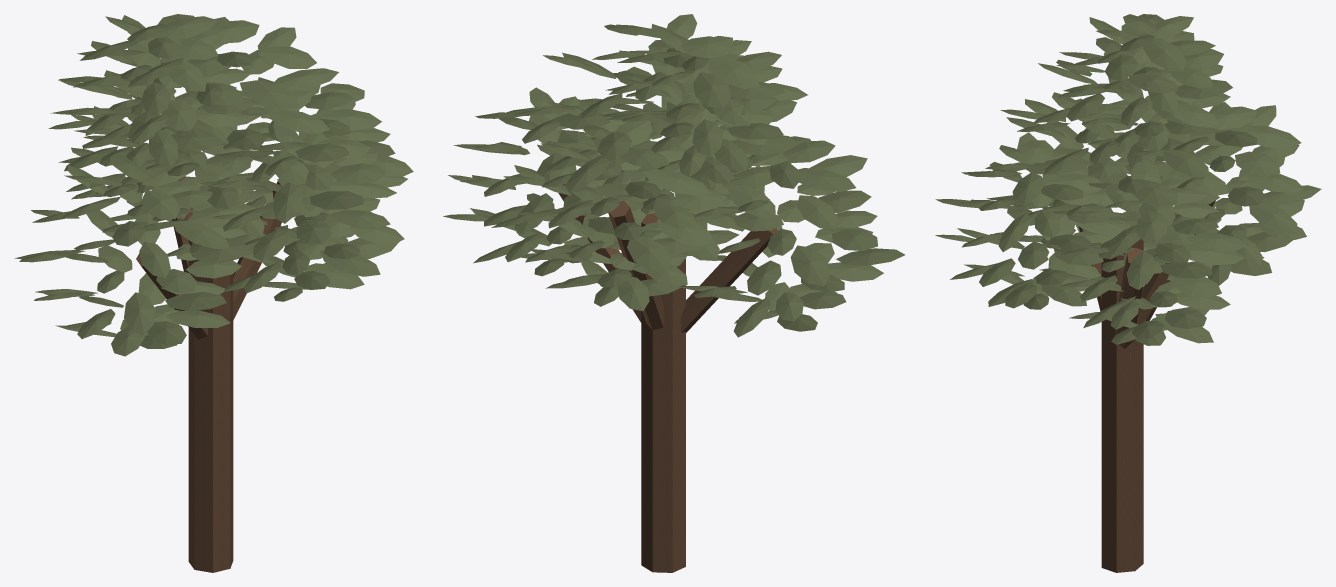
Rendered from tree_oak.glb.
3 renders of one model, left to right at view 1: azimuth 30°, elevation 25°; view 2: azimuth 150°, elevation 25°; view 3: azimuth 270°, elevation 25°, orthographic. The views are drawn at different scales.
Visible parts, largest first — view 1: DD_Crown.002, DD_Crown.004, DD_Crown, DD_Crown.005, DD_Trunk, DD_Crown.001, DD_Crown.003, DD_Branch; view 2: DD_Crown.003, DD_Crown.002, DD_Crown.005, DD_Trunk, DD_Crown, DD_Crown.001, DD_Branch.001, DD_Crown.004, DD_Branch.002; view 3: DD_Crown.001, DD_Crown.004, DD_Crown, DD_Crown.003, DD_Crown.005, DD_Trunk, DD_Crown.002, DD_Branch, DD_Branch.002.
Boxes of the visible parts, left/top/right/bottom form: DD_Crown.002: left=14, top=153, right=255, bottom=356; DD_Crown.004: left=187, top=123, right=404, bottom=301; DD_Crown: left=66, top=17, right=350, bottom=257; DD_Crown.005: left=50, top=14, right=255, bottom=167; DD_Trunk: left=188, top=238, right=233, bottom=572; DD_Crown.001: left=181, top=77, right=413, bottom=255; DD_Crown.003: left=48, top=54, right=264, bottom=221; DD_Branch: left=233, top=178, right=281, bottom=320; DD_Crown.003: left=491, top=120, right=727, bottom=311; DD_Crown.002: left=678, top=136, right=904, bottom=337; DD_Crown.005: left=601, top=24, right=798, bottom=188; DD_Trunk: left=641, top=213, right=685, bottom=572; DD_Crown: left=513, top=14, right=807, bottom=260; DD_Crown.001: left=443, top=87, right=654, bottom=276; DD_Branch.001: left=681, top=228, right=777, bottom=332; DD_Crown.004: left=557, top=66, right=783, bottom=228; DD_Branch.002: left=608, top=201, right=663, bottom=329; DD_Crown.001: left=1047, top=160, right=1246, bottom=345; DD_Crown.004: left=935, top=132, right=1130, bottom=309; DD_Crown: left=995, top=37, right=1242, bottom=283; DD_Crown.003: left=1133, top=102, right=1321, bottom=285; DD_Crown.005: left=1058, top=14, right=1232, bottom=169; DD_Trunk: left=1101, top=239, right=1143, bottom=572; DD_Crown.002: left=987, top=92, right=1174, bottom=279; DD_Branch: left=1115, top=248, right=1145, bottom=348; DD_Branch.002: left=1139, top=200, right=1215, bottom=324.
Bounding box in the file's own units: 2.84 × 3.63 × 2.46.
Materials: 2 (1 with a texture image).
